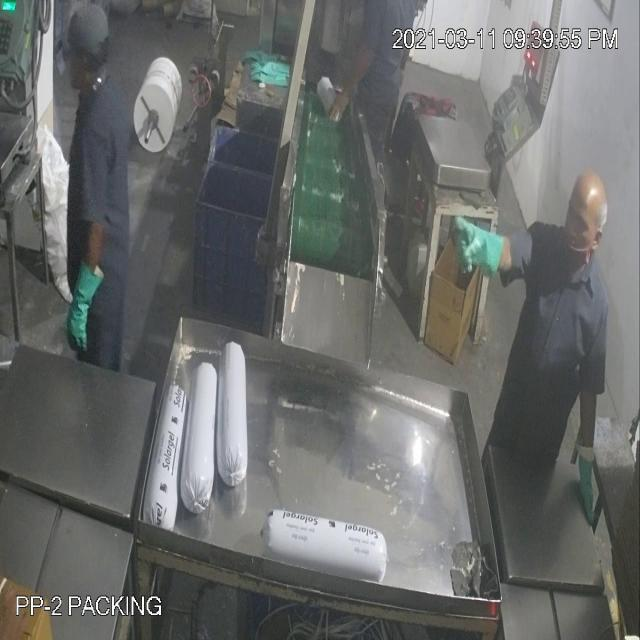No_Gloves: (35, 83, 587, 486)
